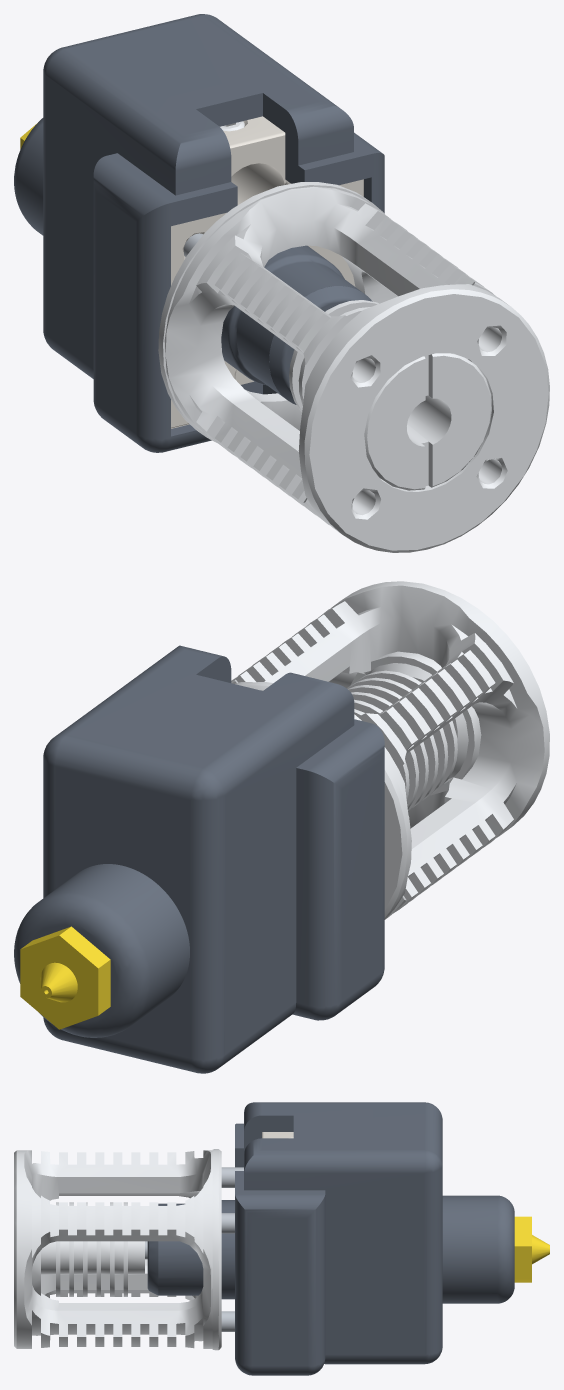
The picture shows the model from 3 angles, top to bottom: view 1: azimuth 30°, elevation 25°; view 2: azimuth 150°, elevation 25°; view 3: azimuth 270°, elevation 25°; orthographic projection. The views are drawn at different scales.
Parts seen in each view (by area): view 1: dav_heatsink_0, dav_silicone_sock_1, dav_heatsink_1, dav_silicone_sock_0, dav_volcano_block_0; view 2: dav_silicone_sock_1, dav_heatsink_0, v6_nozzle_0, dav_heatsink_1; view 3: dav_silicone_sock_1, dav_heatsink_0, dav_heatsink_1, dav_silicone_sock_0, v6_nozzle_0.
Part boxes in pixels (left/top/right/bottom): dav_heatsink_0: left=158, top=182, right=549, bottom=552; dav_silicone_sock_1: left=14, top=14, right=384, bottom=452; dav_heatsink_1: left=289, top=300, right=491, bottom=490; dav_silicone_sock_0: left=221, top=245, right=372, bottom=404; dav_volcano_block_0: left=171, top=116, right=363, bottom=428; dav_silicone_sock_1: left=14, top=645, right=384, bottom=1073; dav_heatsink_0: left=231, top=581, right=549, bottom=919; v6_nozzle_0: left=20, top=926, right=110, bottom=1029; dav_heatsink_1: left=347, top=663, right=468, bottom=810; dav_silicone_sock_1: left=235, top=1102, right=514, bottom=1375; dav_heatsink_0: left=14, top=1149, right=221, bottom=1350; dav_heatsink_1: left=41, top=1202, right=144, bottom=1296; dav_silicone_sock_0: left=147, top=1200, right=234, bottom=1299; v6_nozzle_0: left=514, top=1216, right=549, bottom=1282.
Size of the model in its own units: 0.0223 by 0.0262 by 0.0594.
